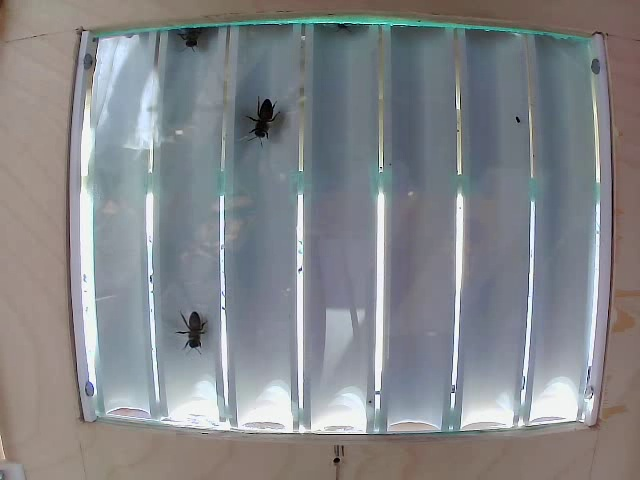bee: (246, 95, 288, 154), (179, 305, 218, 356)
